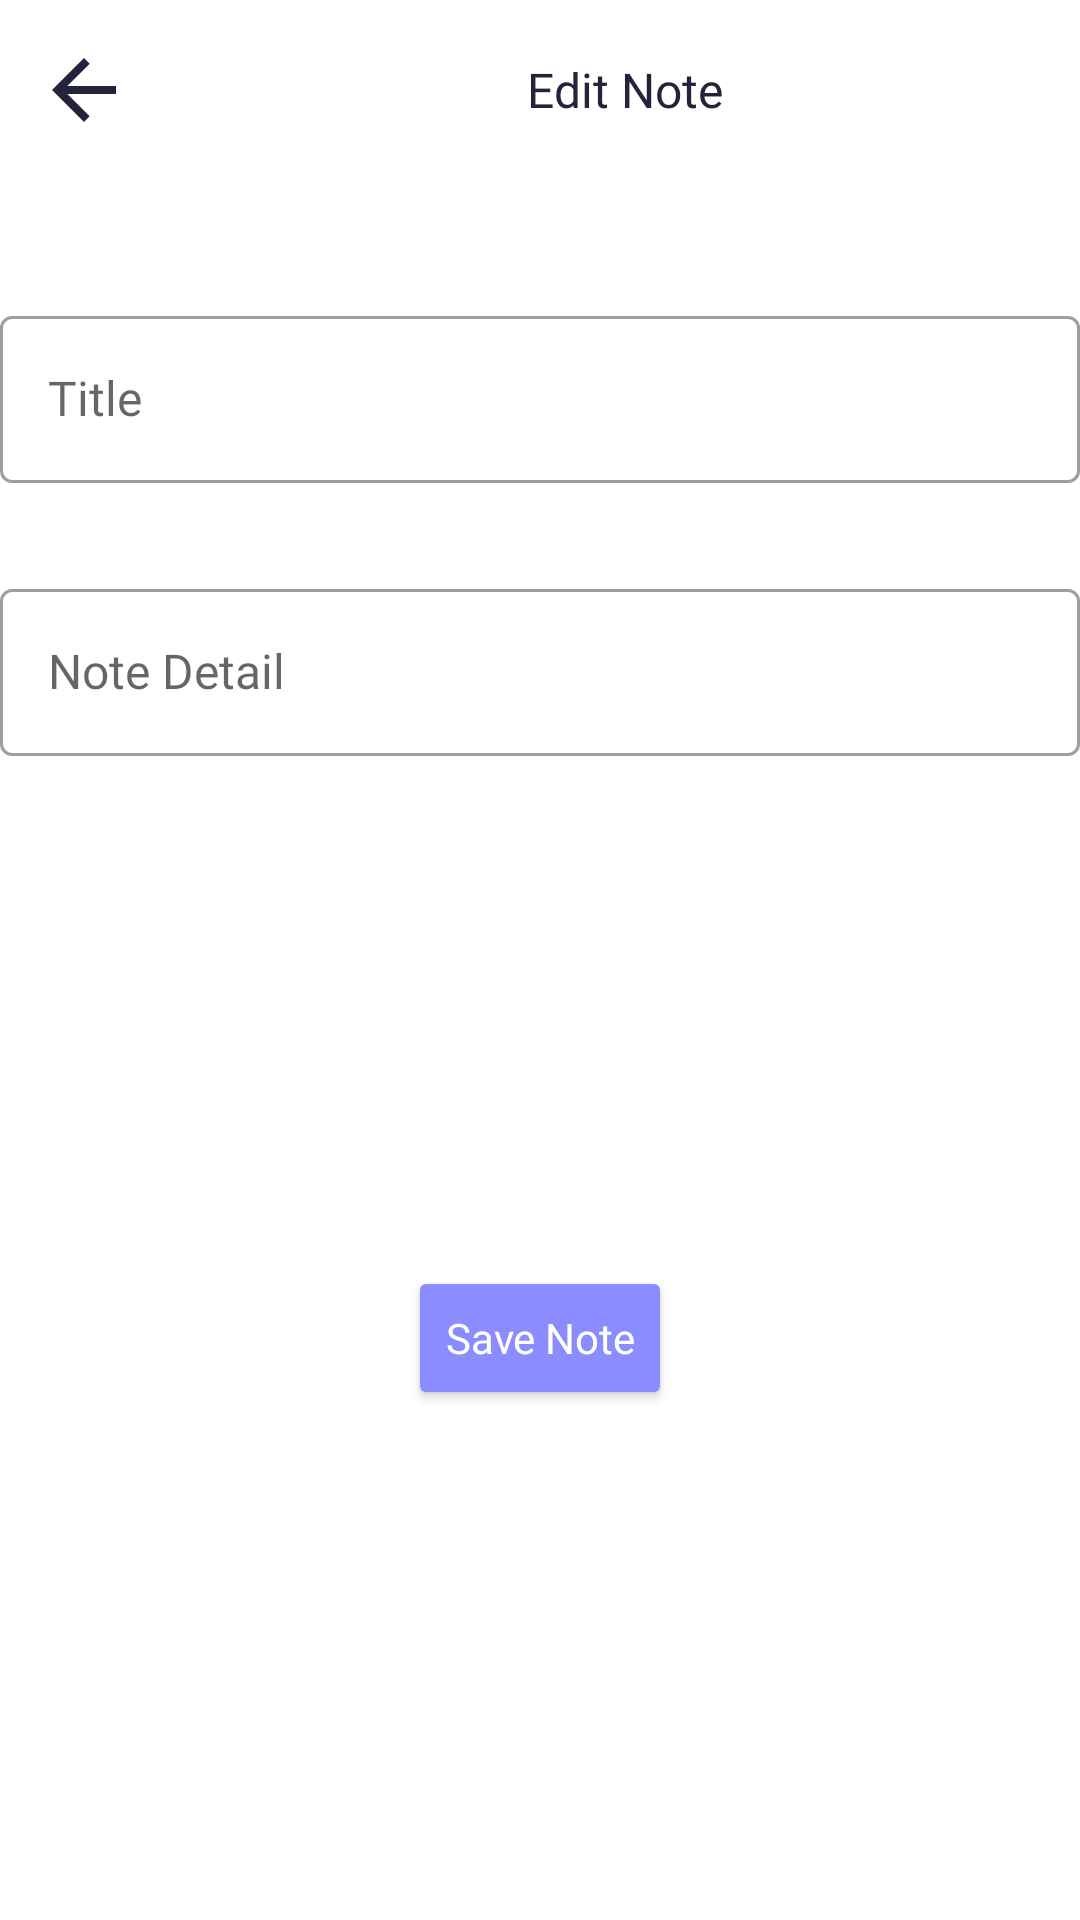

Named icons in this screenshot (1080px×1920px) and their bounding boxes, (x1, y1, x2, y2):
back: (52, 58, 116, 122)
